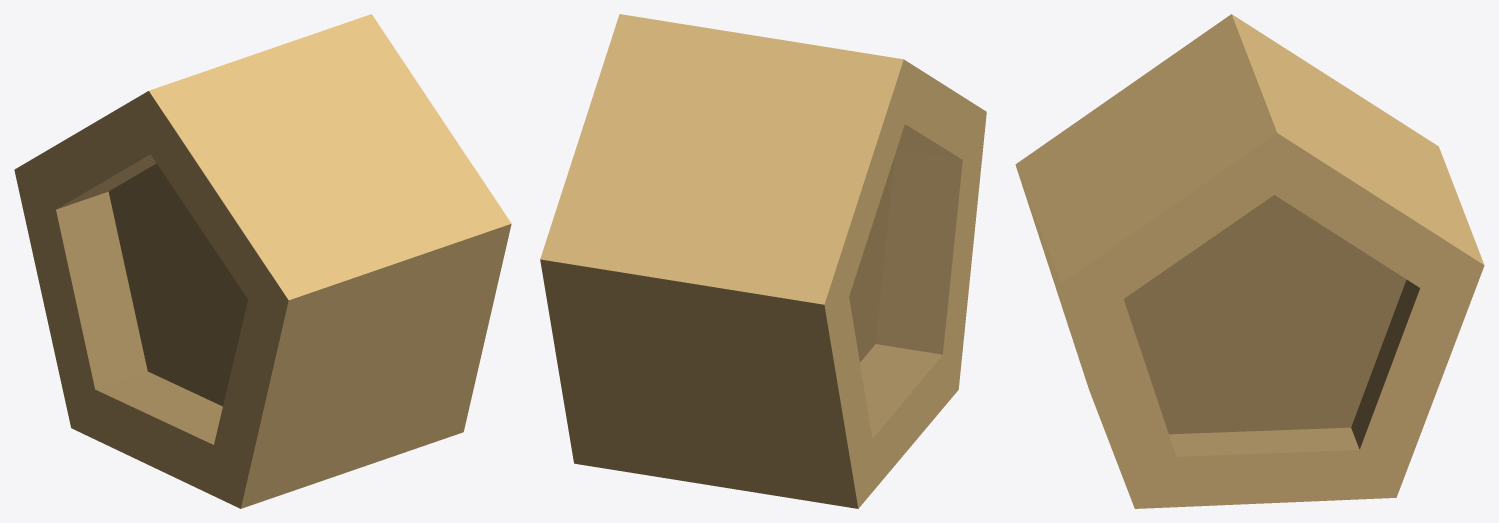
Rendered from honeycomb_item.fbx.
3 views of the same model, side by side, from view 1: azimuth 30°, elevation 25°; view 2: azimuth 150°, elevation 25°; view 3: azimuth 270°, elevation 25° (orthographic). The views are drawn at different scales.
Visible parts, largest first — view 1: honeycomb1; view 2: honeycomb1; view 3: honeycomb1.
Boxes of the visible parts, x1=… form: honeycomb1: x1=14, y1=14, x2=511, y2=508; honeycomb1: x1=540, y1=14, x2=986, y2=508; honeycomb1: x1=1015, y1=14, x2=1484, y2=508.
Bounding box in the file's own units: 0.1149 × 0.1354 × 0.1541.
